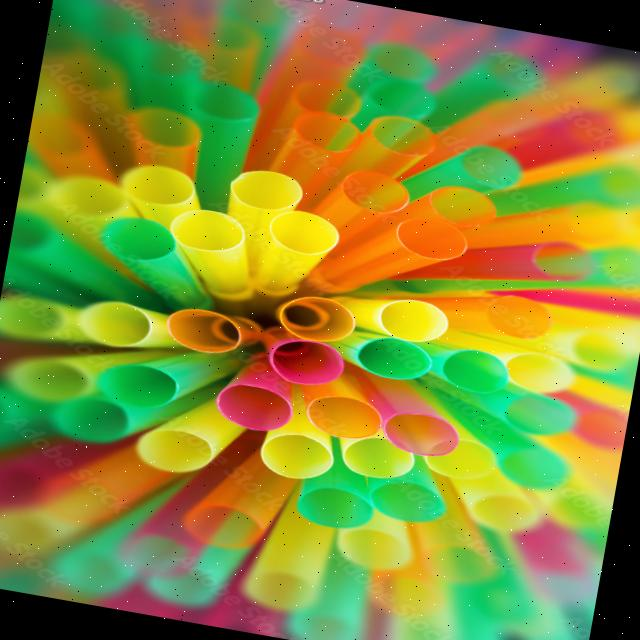plastic: (98, 394, 237, 489)
